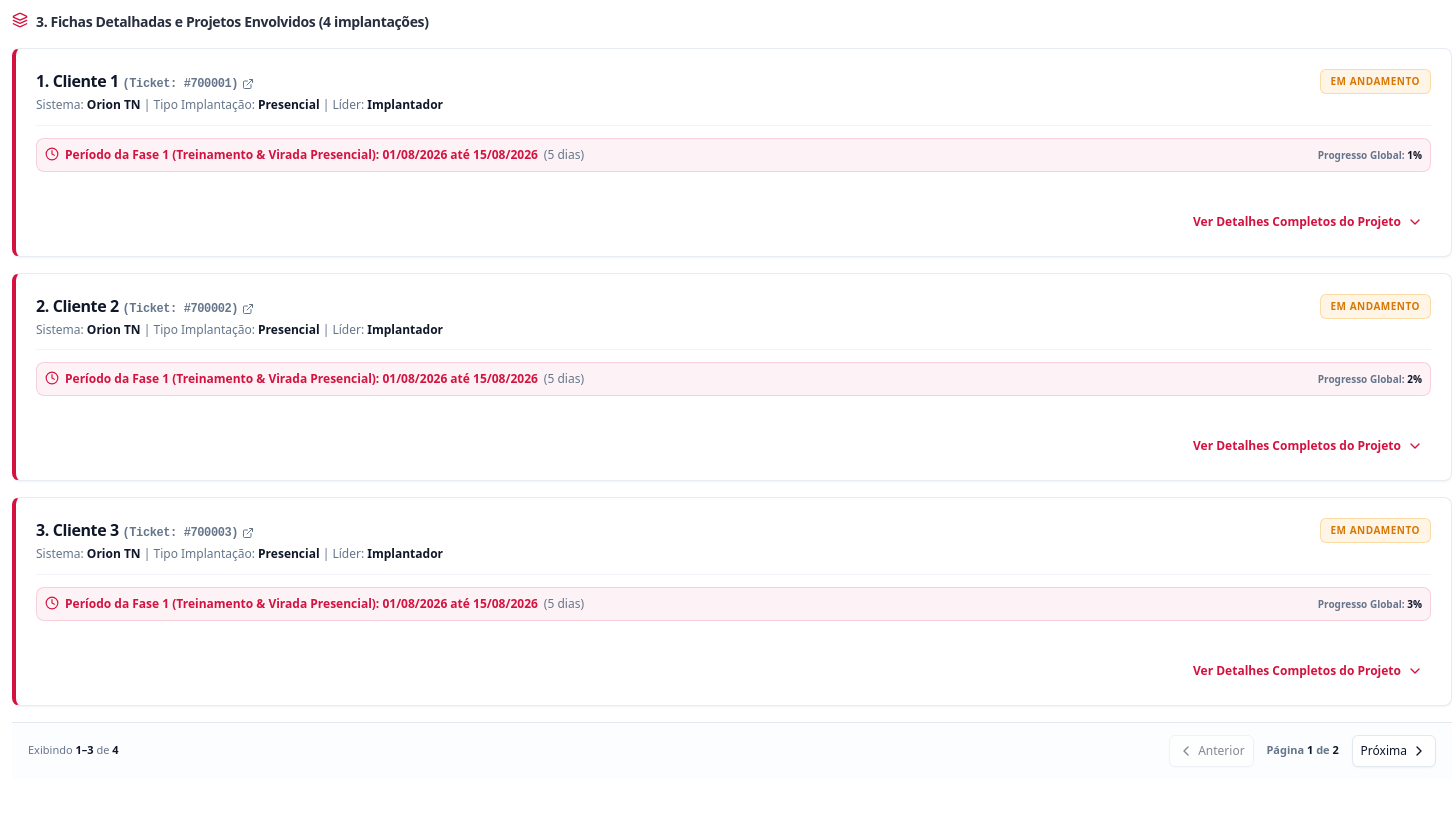
relatórios no mobile › limita as fichas detalhadas a três projetos por página
expect the heading "1. Cliente 1 (Ticket: #700001)" is shown: met, box x1=36 y1=70 x2=254 y2=92
expect the text "4. Cliente 4" is not shown: met
Click the button with aria-label "Próxima página de fichas detalhadas": {"x": 1394, "y": 750} x1=1352 y1=734 x2=1436 y2=766
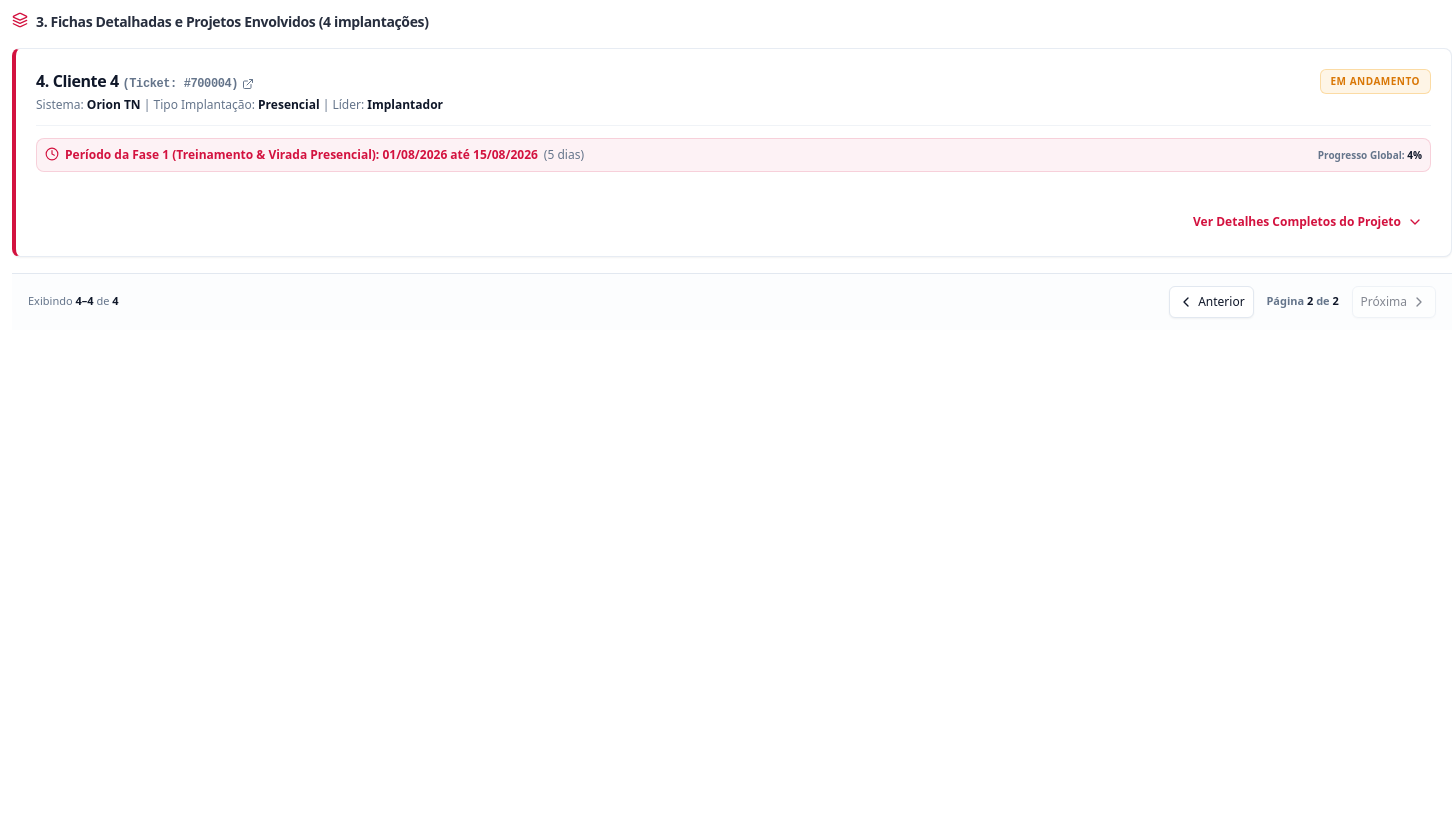
expect the heading "1. Cliente 1" is gone: met
expect the heading "4. Cliente 4 (Ticket: #700004)" is shown: met, box x1=36 y1=70 x2=254 y2=92
